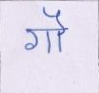au_matra: (50, 8, 68, 52)
